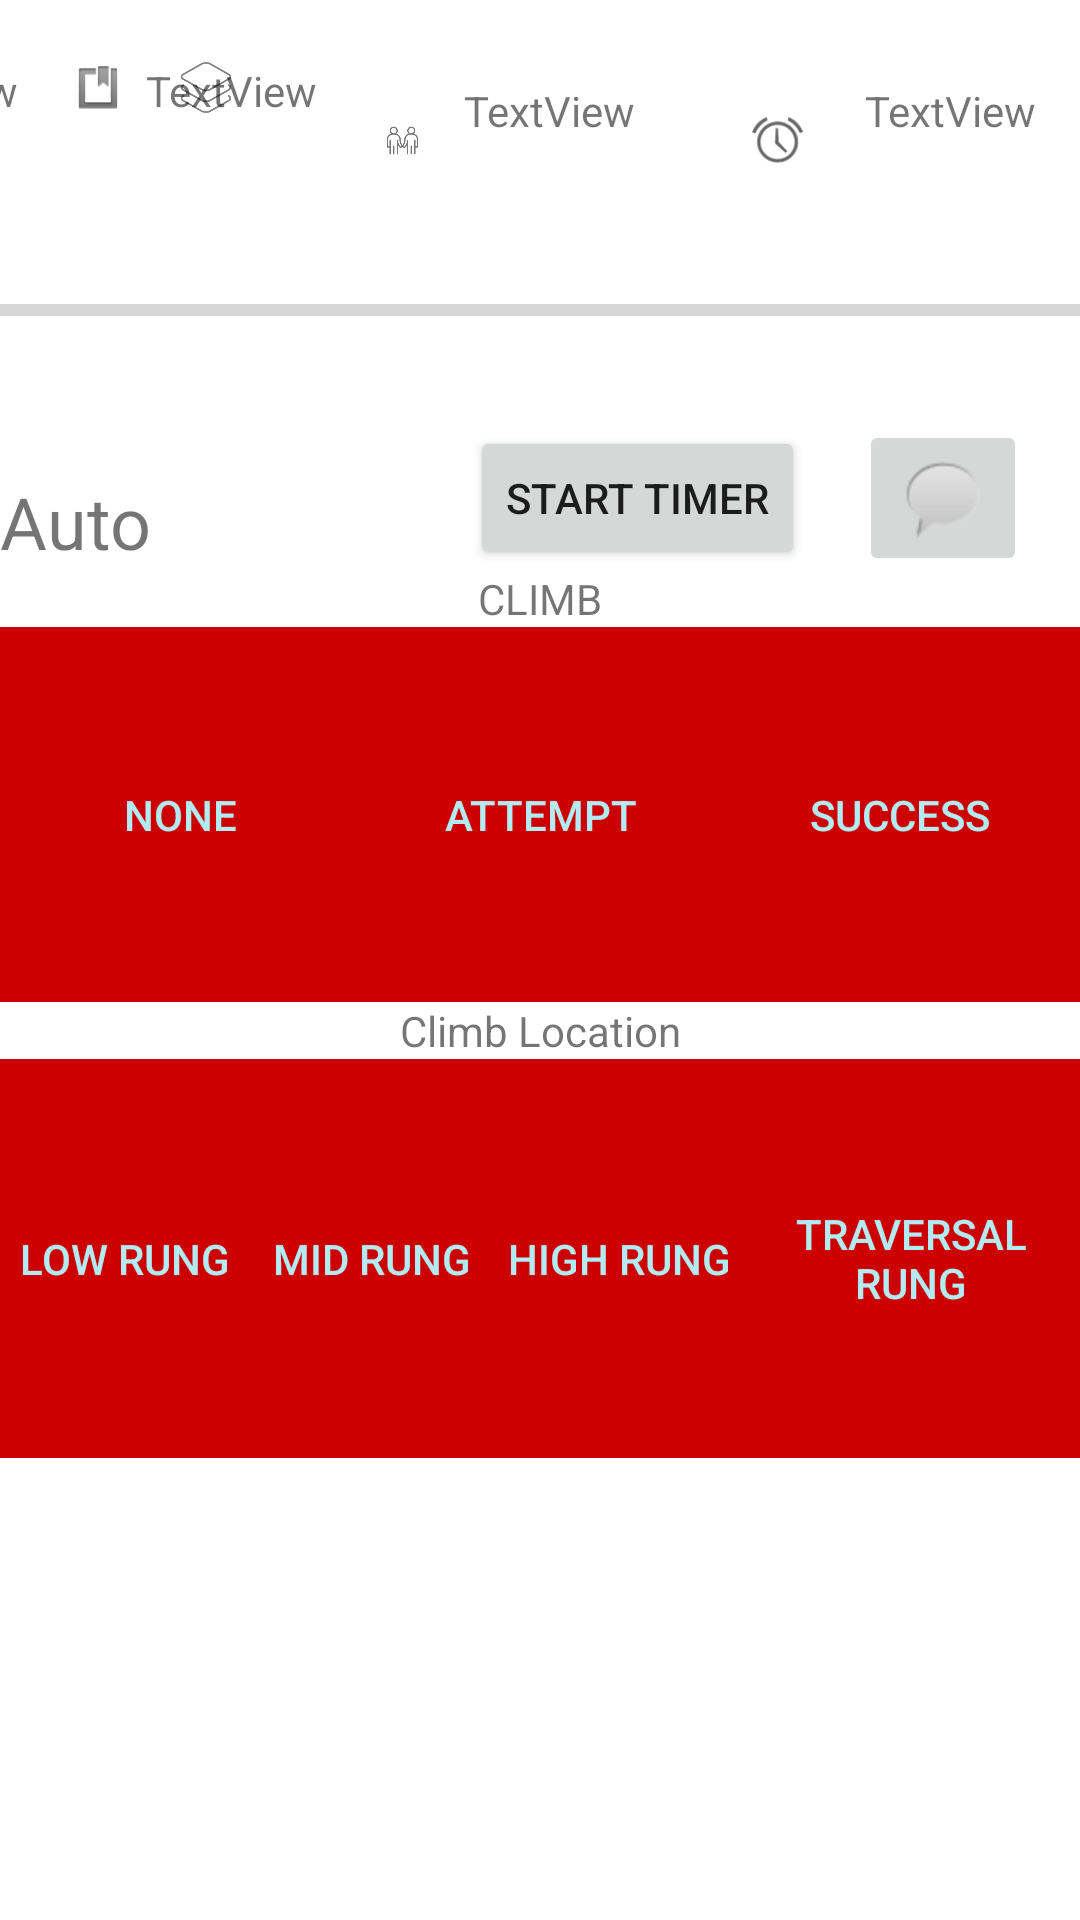

Where icons sit on this 1080×1920 app screen, as (x1, y1, x2, y2):
lock idle alarm: (752, 117, 803, 163)
sym action chat: (871, 438, 1015, 558)
